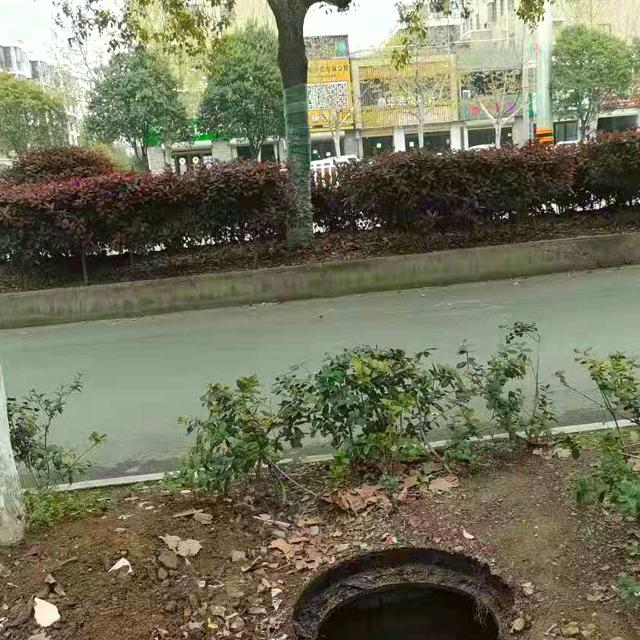lose: (286, 544, 516, 640)
